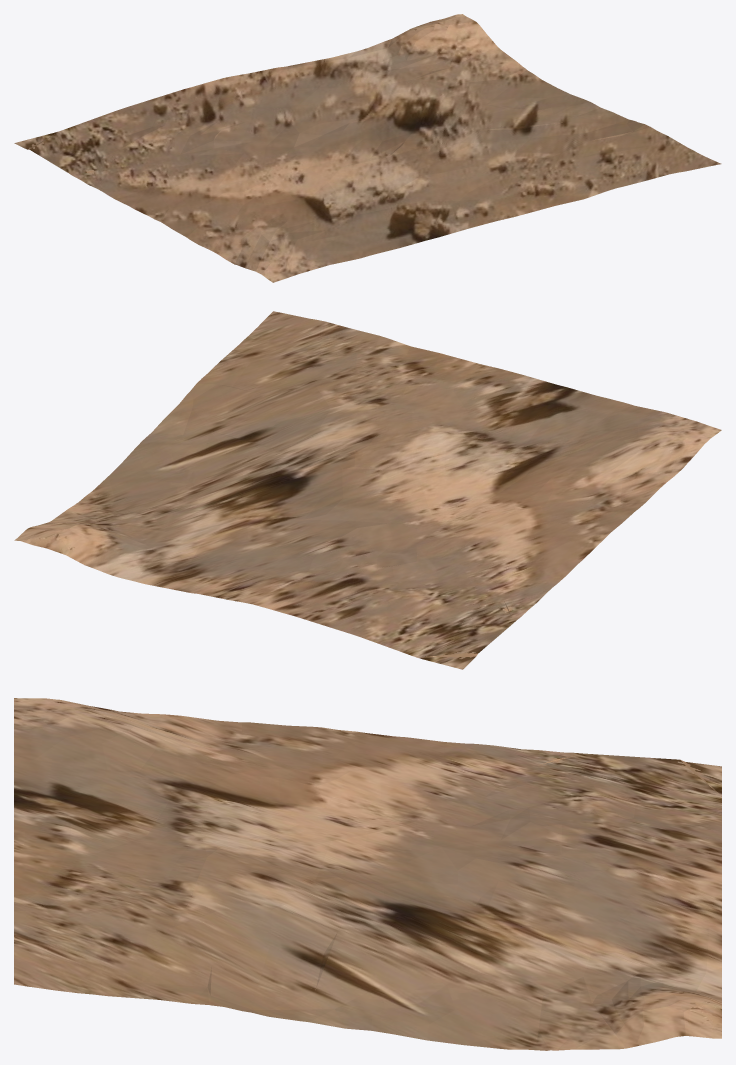
3 renders of one model, top to bottom at view 1: azimuth 30°, elevation 25°; view 2: azimuth 150°, elevation 25°; view 3: azimuth 270°, elevation 25°, orthographic. The views are drawn at different scales.
Size of the model in its own units: 1.04 by 0.1375 by 1.04.
2 materials, 2 textured.
